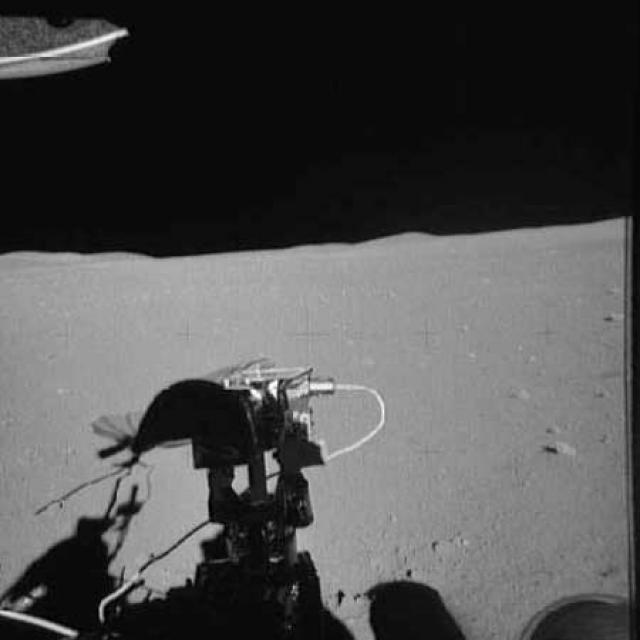rock: (536, 440, 578, 460), (424, 532, 458, 556), (596, 305, 624, 329), (399, 561, 424, 581)
